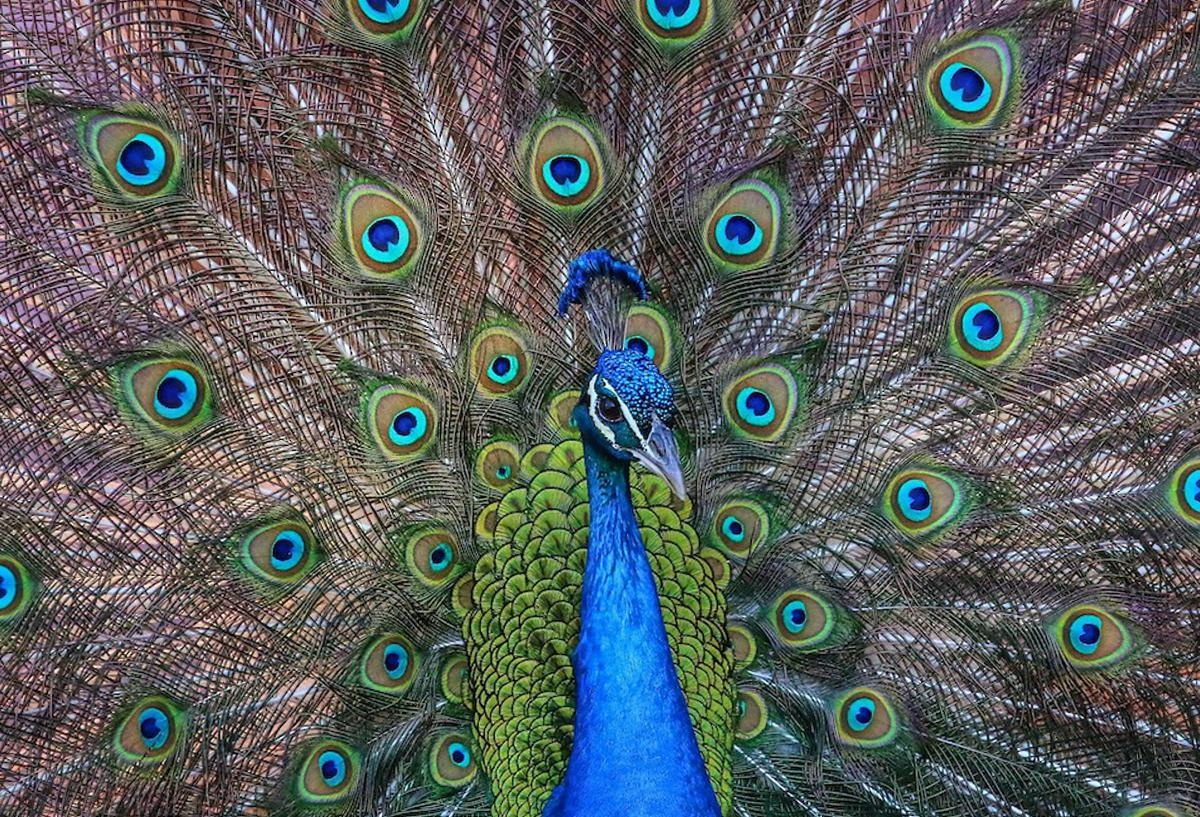peacock: (24, 94, 1200, 817)
